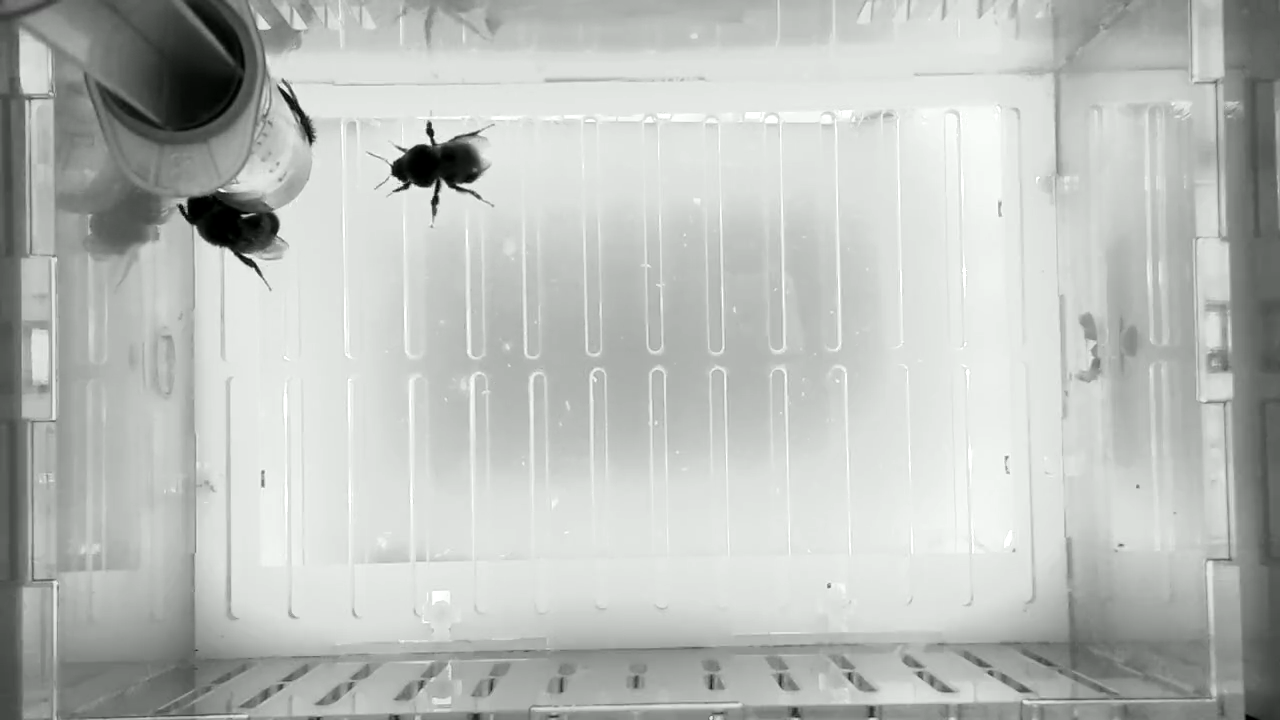bee_alive: (362, 113, 502, 235), (172, 190, 296, 297), (270, 74, 319, 156)
feeder: (196, 53, 316, 221)
